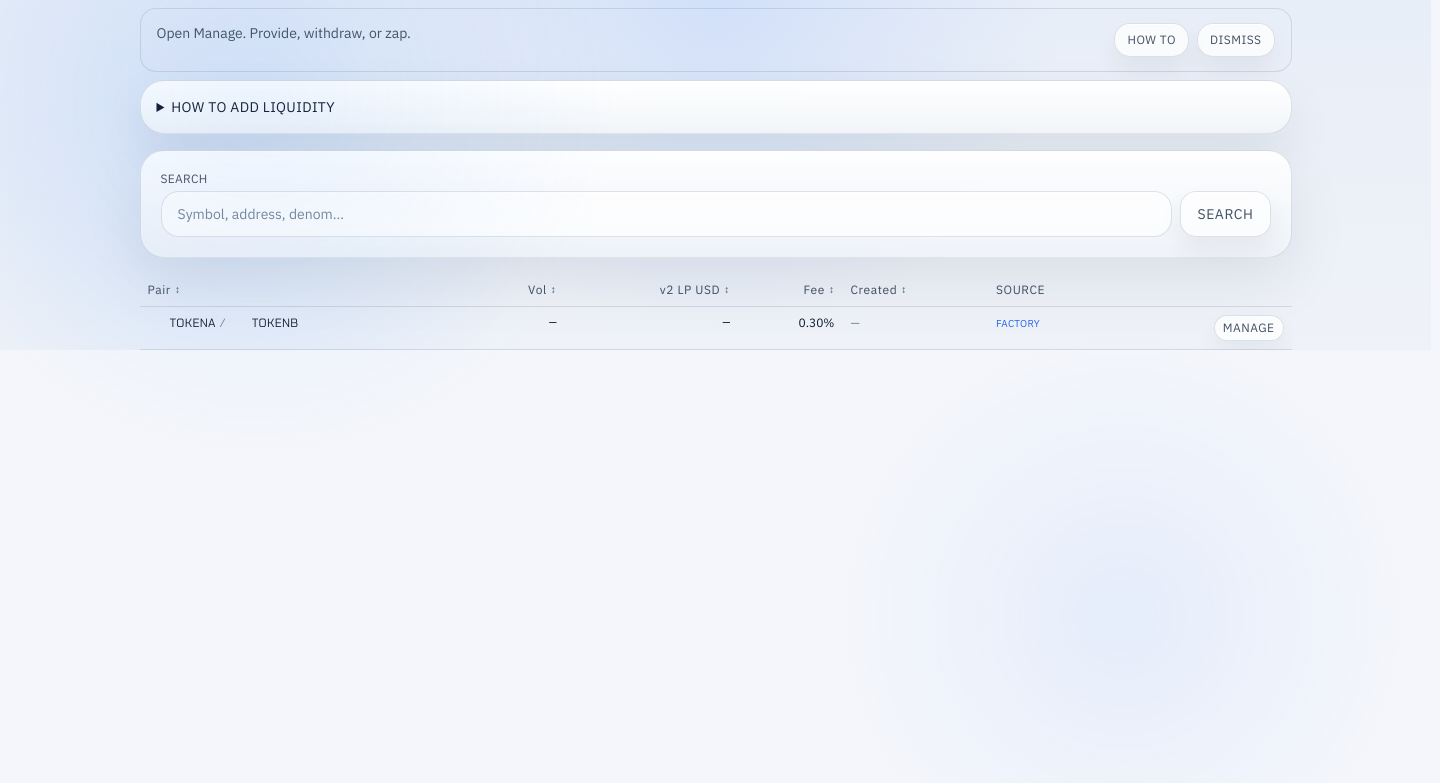
PoolPage › pair Manage IA (GitLab #660) › M6: empty pool disables zap and points at Provide Liquidity
What coordinates should you click on to do the following:
click the button with test id "pool-row-manage"
I would click on:
 (1249, 328)
Its box is [1214,315,1284,341].
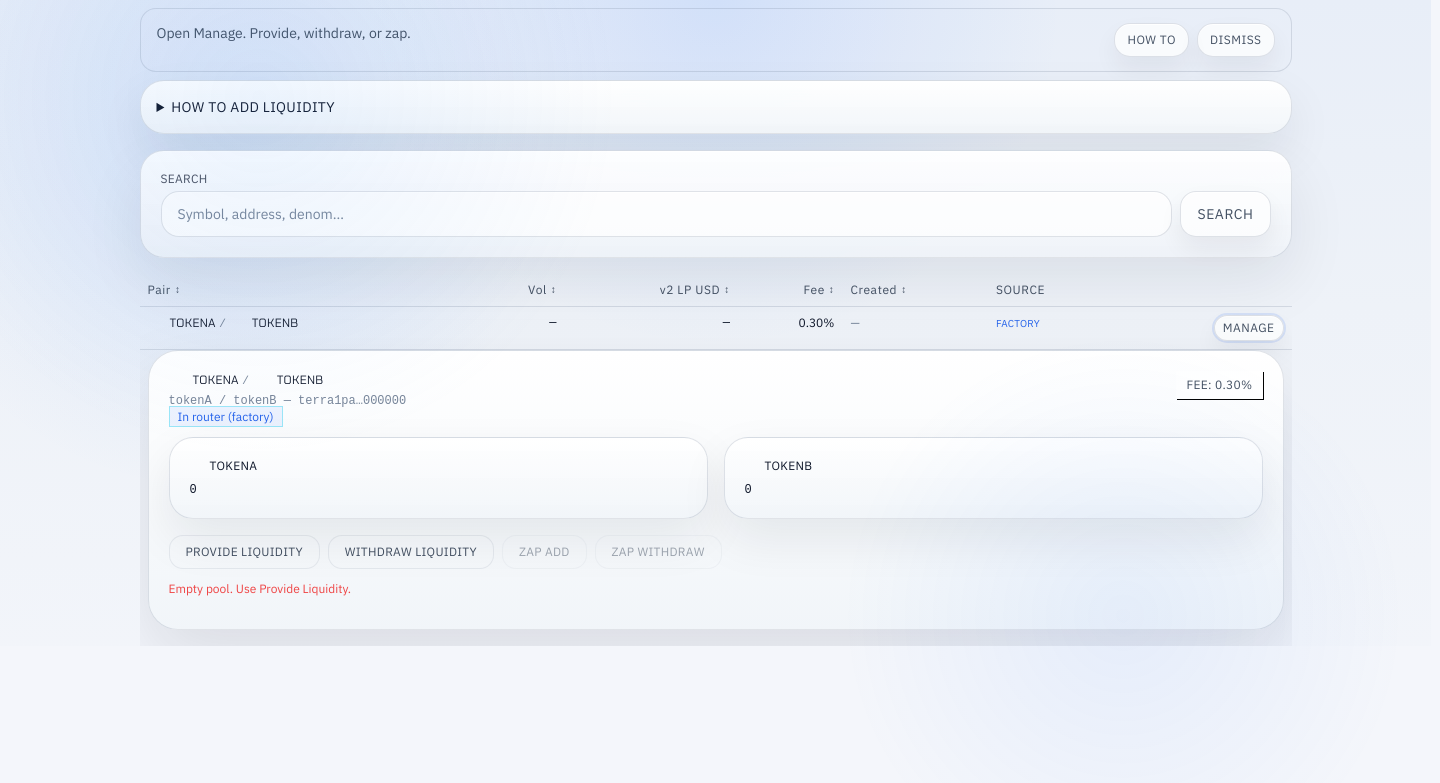
Expected: the element with test id "pool-manage-actions" is shown, [168,535,722,569]
Expected: the message with test id "pool-manage-empty-pool" shows "Empty pool. Use Provide Liquidity", [168,581,351,596]
Expected: the button with test id "pool-manage-tab-zap-add" is disabled, [502,535,587,569]
What coordinates should you click on to do the following:
click the button with test id "pool-manage-tab-provide"
I would click on:
 (244, 552)
Its box is [168,535,320,569].
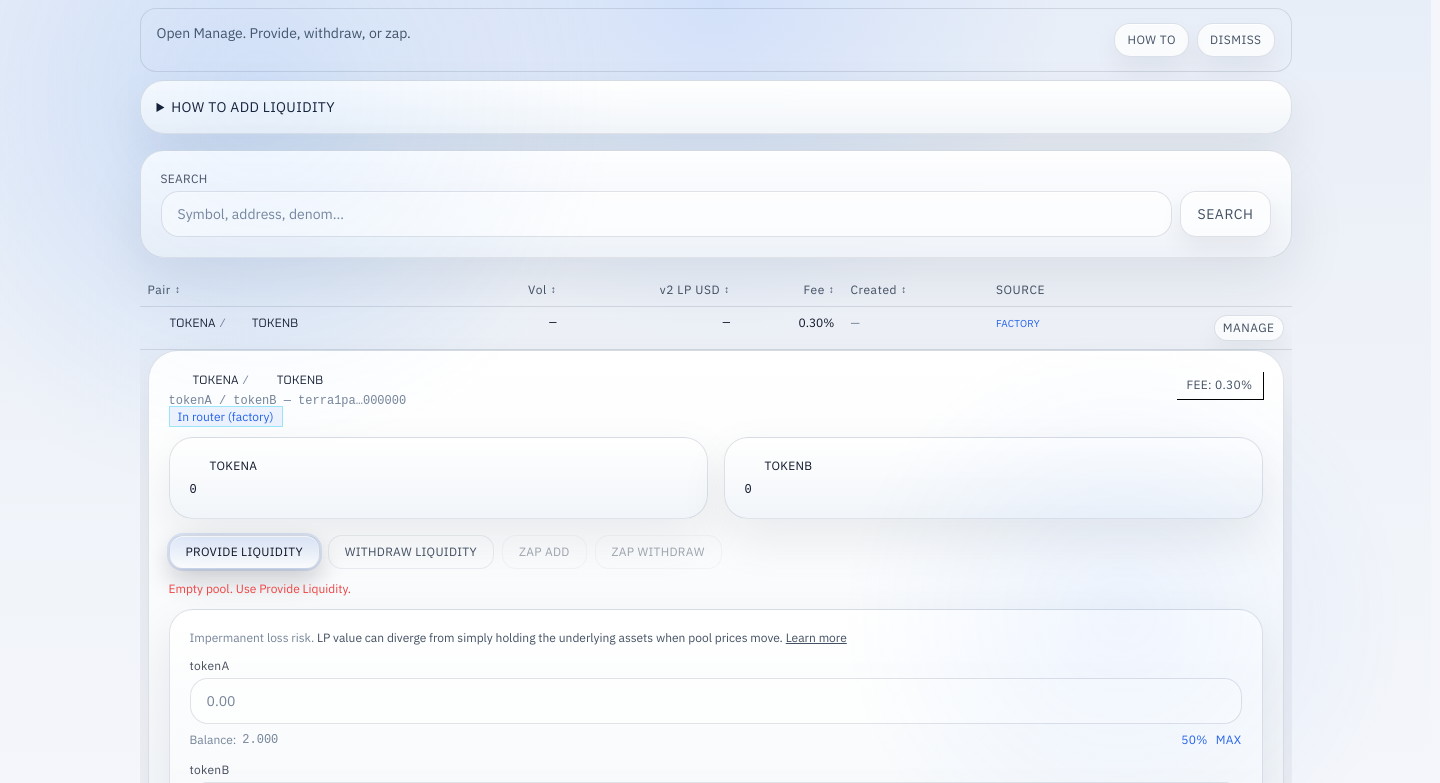
Expected: the field named "tokenA amount" is shown, [190,678,1242,724]
